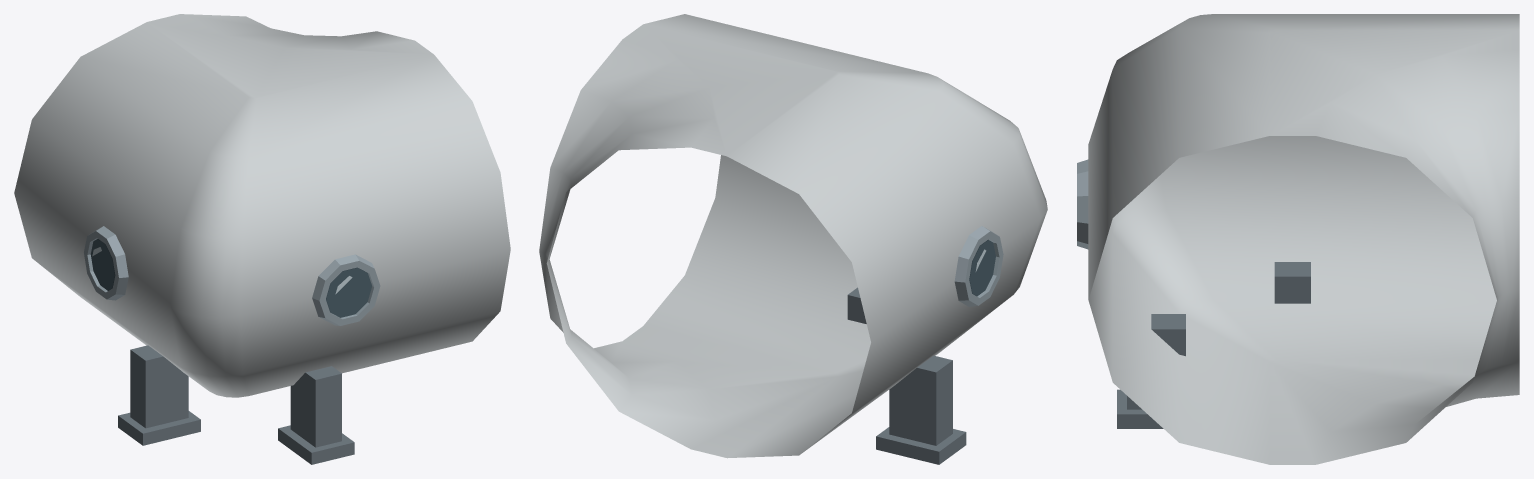
Rendered from pressure_005.glb.
The picture shows the model from 3 angles, left to right: view 1: azimuth 30°, elevation 25°; view 2: azimuth 150°, elevation 25°; view 3: azimuth 270°, elevation 25°; orthographic projection. The views are drawn at different scales.
Visible parts, largest first — view 1: Pressure_Shell.047, Support.134, Support.133, Porthole_Rim.070, Gas_Window.070, Porthole_Rim.071, Window_Glass.070, Footplate.134, Footplate.133, Window_Glass.071, Gas_Window.071; view 2: Pressure_Shell.047, Support.134, Porthole_Rim.071, Footplate.134, Window_Glass.071, Gas_Window.071; view 3: Pressure_Shell.047, Support.134, Support.133, Porthole_Rim.070, Footplate.133.
Part boxes in pixels (x1,y1,x2,y2): Pressure_Shell.047: (14, 14, 510, 397); Support.134: (130, 345, 188, 428); Support.133: (290, 366, 341, 447); Porthole_Rim.070: (312, 254, 380, 325); Gas_Window.070: (326, 267, 371, 317); Porthole_Rim.071: (84, 226, 128, 300); Window_Glass.070: (327, 268, 373, 318); Footplate.134: (118, 411, 200, 445); Footplate.133: (278, 425, 354, 464); Window_Glass.071: (88, 239, 114, 291); Gas_Window.071: (90, 239, 115, 290); Pressure_Shell.047: (539, 14, 1047, 458); Support.134: (889, 355, 952, 445); Porthole_Rim.071: (954, 226, 1003, 306); Footplate.134: (876, 427, 966, 464); Window_Glass.071: (970, 240, 998, 296); Gas_Window.071: (969, 239, 995, 296); Pressure_Shell.047: (1088, 14, 1519, 464); Support.134: (1274, 262, 1310, 303); Support.133: (1127, 314, 1185, 409); Porthole_Rim.070: (1077, 159, 1088, 249); Footplate.133: (1117, 389, 1163, 428).
Size of the model in its own units: 1.95 by 1.83 by 1.95.
